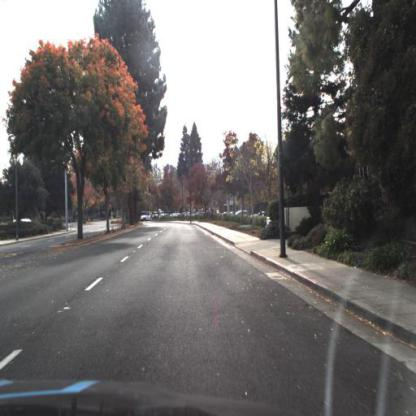truck: (141, 212, 158, 223)
